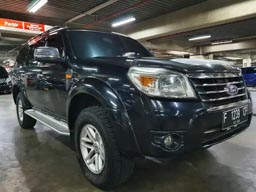plat: (222, 105, 248, 126)
